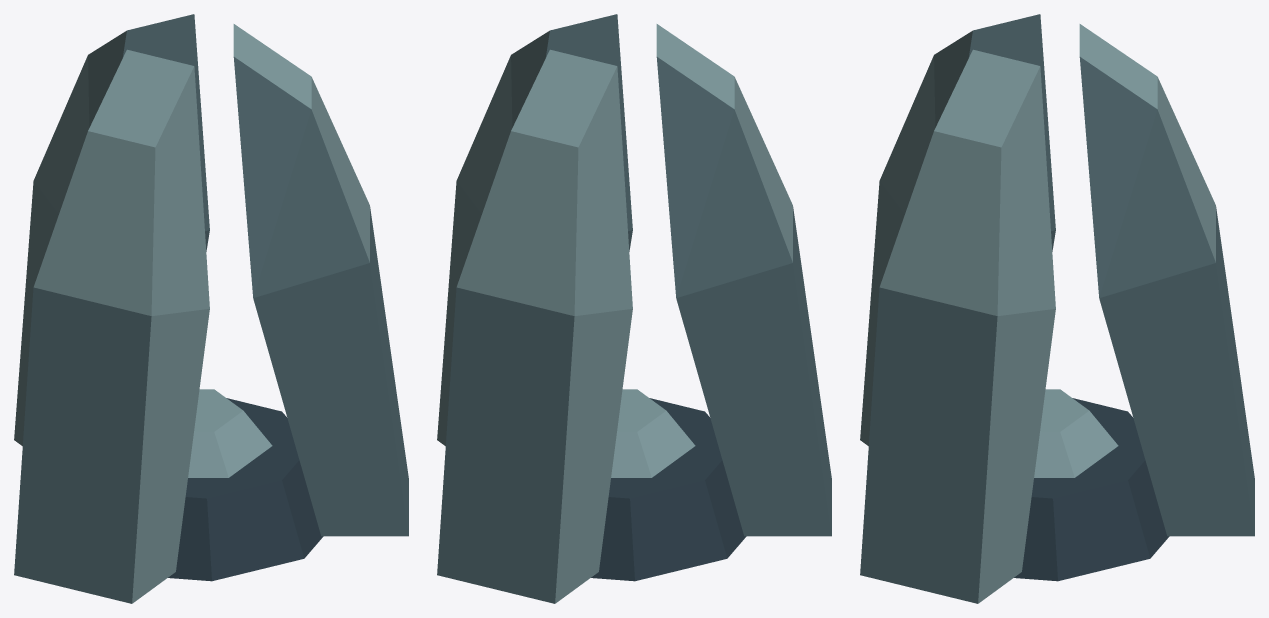
The model's file is SM_ResonanceSite_Dormant.fbx.
The picture shows the model from 3 angles, left to right: view 1: azimuth 30°, elevation 25°; view 2: azimuth 150°, elevation 25°; view 3: azimuth 270°, elevation 25°; orthographic projection.
Visible parts, largest first — view 1: SM_ResonanceSite_Dormant; view 2: SM_ResonanceSite_Dormant; view 3: SM_ResonanceSite_Dormant.
Part boxes in pixels (bbox=[...]): SM_ResonanceSite_Dormant: bbox=[14, 14, 408, 603]; SM_ResonanceSite_Dormant: bbox=[437, 14, 831, 603]; SM_ResonanceSite_Dormant: bbox=[860, 14, 1254, 603].
Bounding box in the file's own units: 46.84 × 40.56 × 54.
